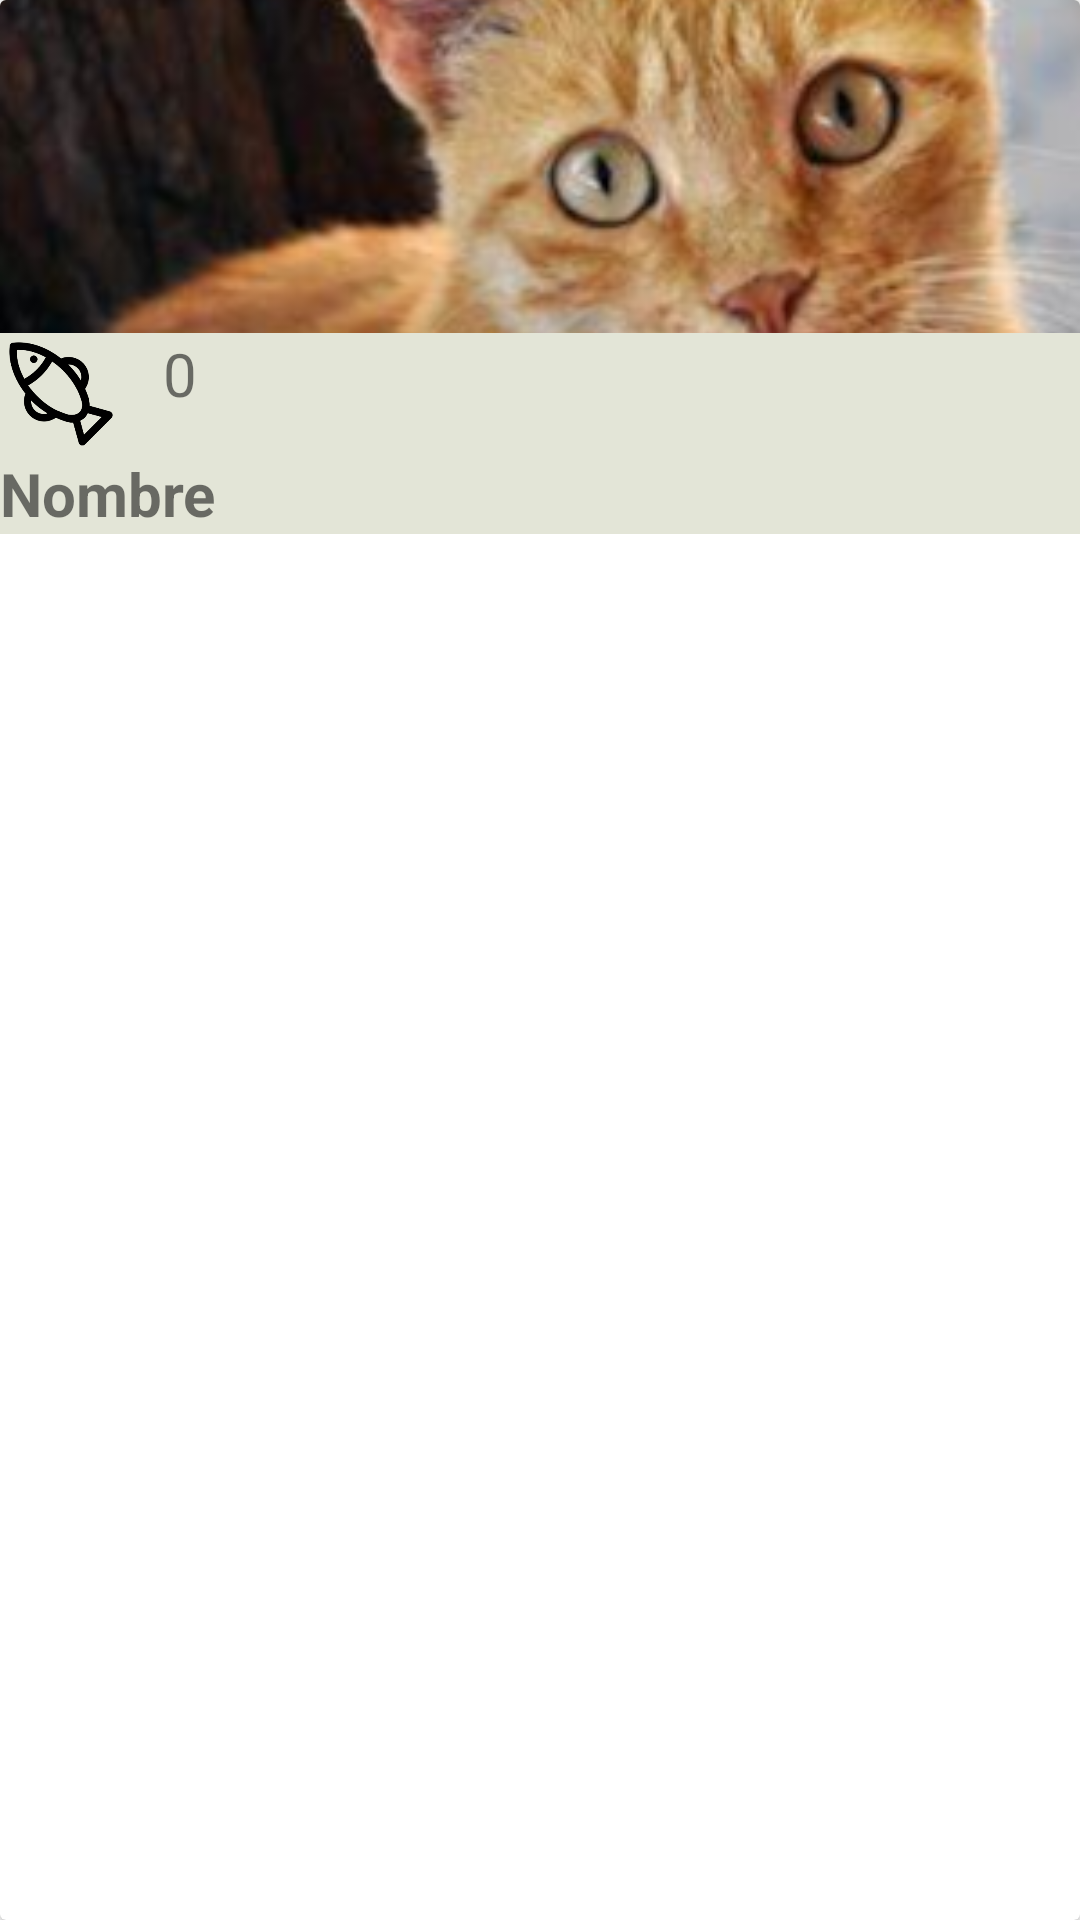

Icon click points for this 1080*1920 phone screenshot, format point (x, y):
pescado: point (61, 394)
